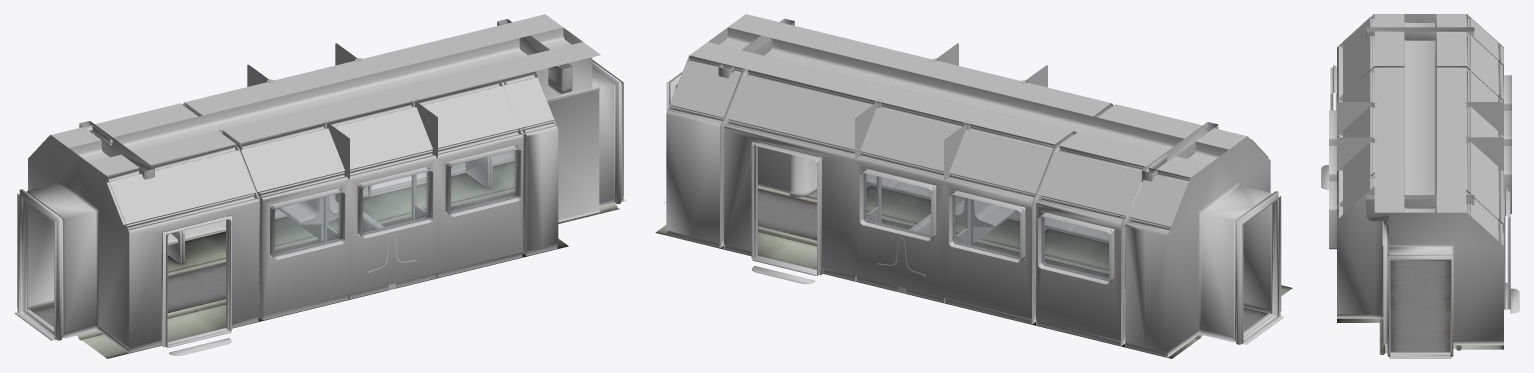
The model's file is subway_carriage.dae.
3 renders of one model, left to right at view 1: azimuth 30°, elevation 25°; view 2: azimuth 150°, elevation 25°; view 3: azimuth 270°, elevation 25°, orthographic. The views are drawn at different scales.
Parts seen in each view (by area): view 1: train, floor, glass; view 2: train, floor, glass; view 3: train, floor.
Part boxes in pixels (box(x1,y1,x2,y2)): train: box(14, 14, 625, 355); floor: box(30, 161, 619, 358); glass: box(272, 147, 517, 257); train: box(664, 14, 1283, 357); floor: box(655, 184, 1292, 358); glass: box(863, 170, 1112, 281); train: box(1321, 14, 1519, 358); floor: box(1337, 261, 1503, 354).
Size of the model in its own units: 13.05 by 3.63 by 4.75.
